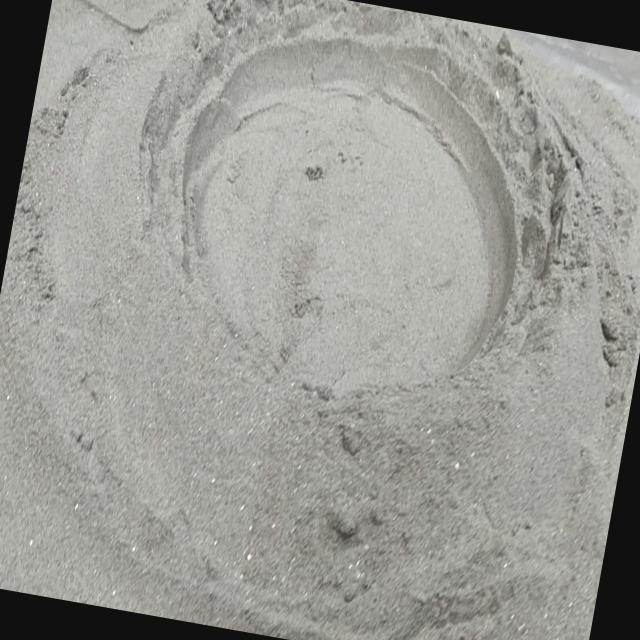C40: (158, 0, 519, 387)
